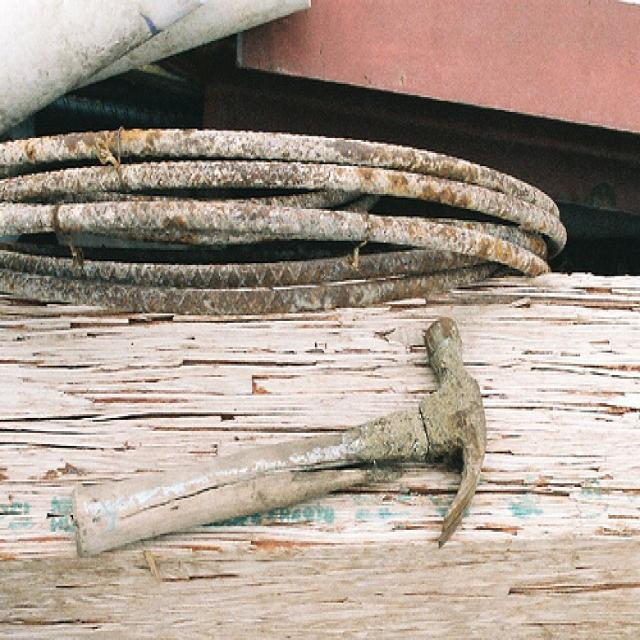hammer: (67, 310, 490, 566)
